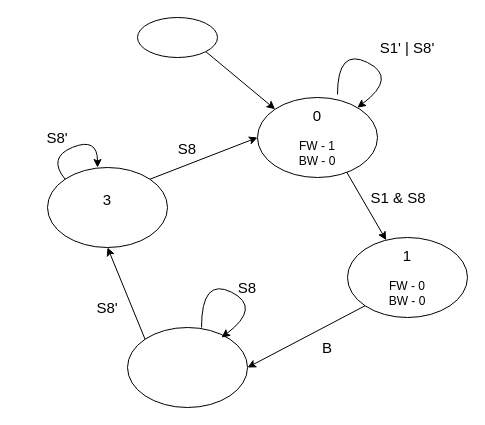
Image size: 485x425. Some labels were removed from this diagram. Each missing label, with the centre of its shape:
"2 FWR - 1 BWL - 1" belongs at pixel 187 367.
"Reset" belongs at pixel 177 37.
